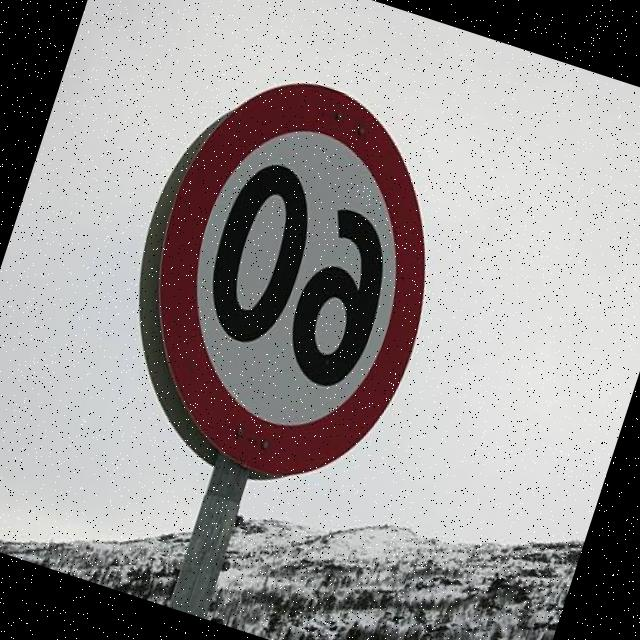speed_limit_60: (98, 38, 491, 517)
